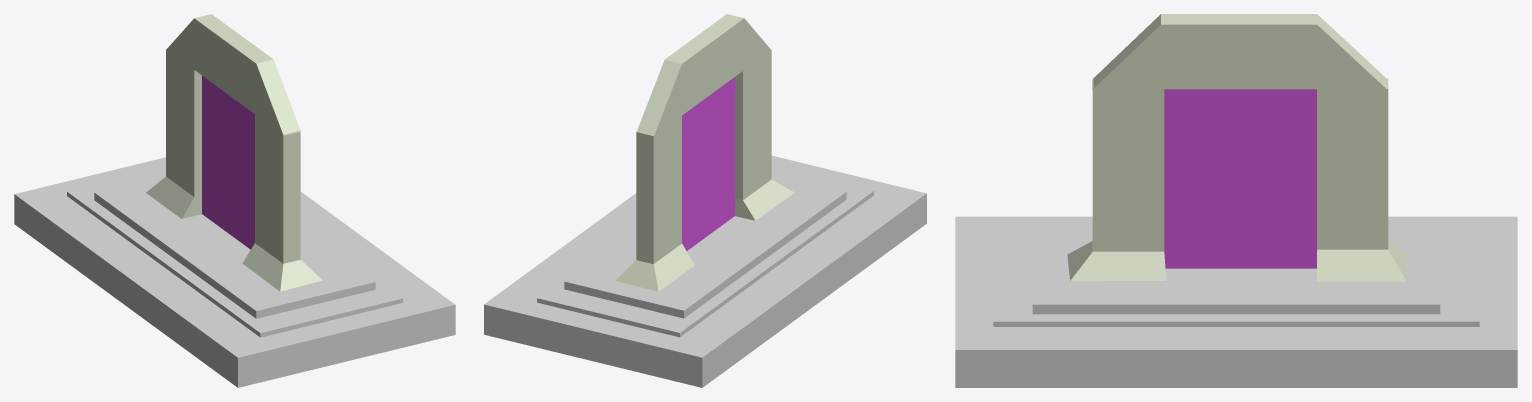
File: Portal.glb
3 views of the same model, side by side, from view 1: azimuth 30°, elevation 25°; view 2: azimuth 150°, elevation 25°; view 3: azimuth 270°, elevation 25° (orthographic). The views are drawn at different scales.
Visible parts, largest first — view 1: Cube.006, Cube.004, Cube, Cube.003, Cube.002, Cube.005, Cube.001; view 2: Cube.006, Cube.004, Cube.001, Cube.003, Cube.002, Cube.005, Cube; view 3: Cube.006, Cube.003, Cube.004, Cube.002, Cube, Cube.001, Cube.005.
Boxes of the visible parts, box(x1,y1,x2,y2) form: Cube.006: box(14, 157, 455, 387); Cube.004: box(94, 175, 375, 318); Cube: box(242, 114, 322, 291); Cube.003: box(202, 75, 254, 249); Cube.002: box(166, 14, 300, 135); Cube.005: box(67, 167, 402, 337); Cube.001: box(146, 48, 201, 218); Cube.006: box(484, 155, 926, 387); Cube.004: box(564, 173, 846, 318); Cube.001: box(615, 115, 694, 291); Cube.003: box(682, 77, 735, 250); Cube.002: box(637, 14, 771, 136); Cube.005: box(537, 166, 873, 337); Cube: box(735, 51, 794, 220); Cube.006: box(955, 216, 1517, 387); Cube.003: box(1164, 89, 1316, 268); Cube.004: box(1032, 231, 1440, 314); Cube.002: box(1092, 14, 1387, 90); Cube: box(1067, 78, 1166, 281); Cube.001: box(1317, 78, 1407, 281); Cube.005: box(993, 234, 1479, 326).
Size of the model in its own units: 8.84 by 9.32 by 15.74.
